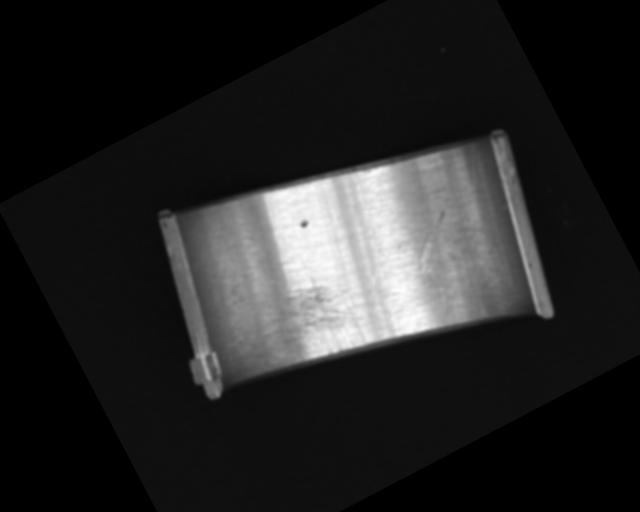bruise: (298, 217, 311, 230)
nick: (319, 169, 407, 288), (435, 140, 510, 234), (402, 210, 463, 268), (418, 262, 453, 316)
scratch: (237, 262, 377, 390)
